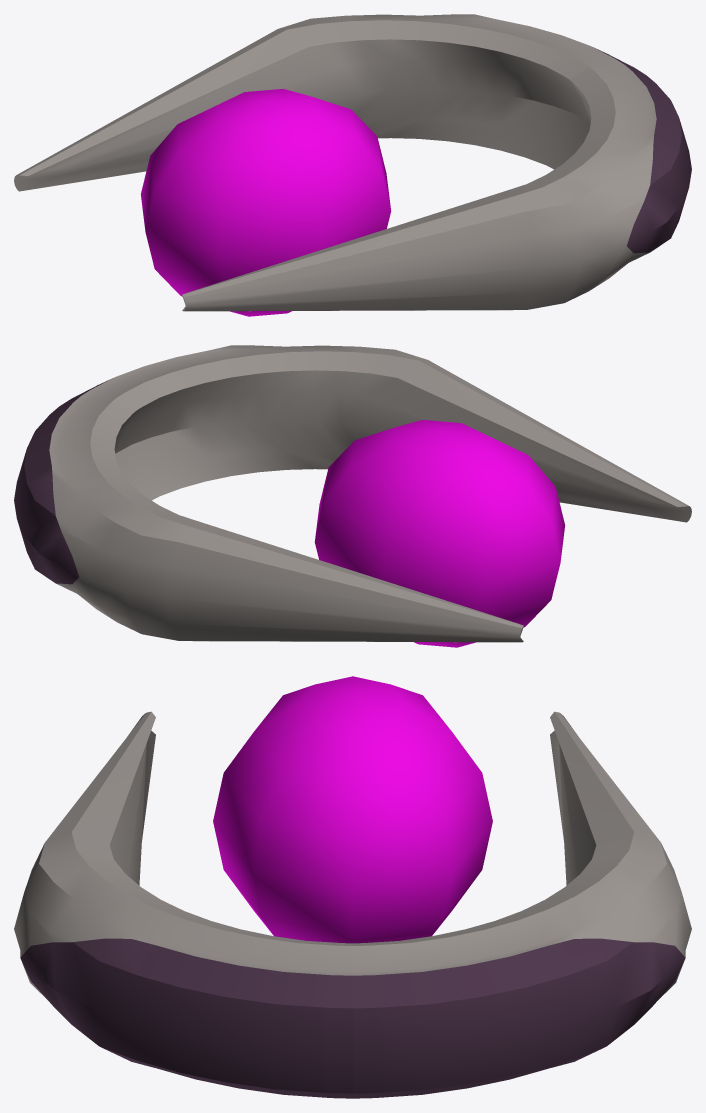
Rendered from Spaceship_Pluto.fbx.
The picture shows the model from 3 angles, top to bottom: view 1: azimuth 30°, elevation 25°; view 2: azimuth 150°, elevation 25°; view 3: azimuth 270°, elevation 25°; orthographic projection. The views are drawn at different scales.
Parts seen in each view (by area): view 1: Torus, Sphere_Sphere.001; view 2: Torus, Sphere_Sphere.001; view 3: Torus, Sphere_Sphere.001.
Boxes of the visible parts, x1=… form: Torus: x1=14, y1=14, x2=691, y2=311; Sphere_Sphere.001: x1=140, y1=89, x2=391, y2=316; Torus: x1=14, y1=345, x2=691, y2=642; Sphere_Sphere.001: x1=314, y1=420, x2=565, y2=647; Torus: x1=14, y1=711, x2=691, y2=1098; Sphere_Sphere.001: x1=213, y1=676, x2=492, y2=943.
Size of the model in its own units: 255 by 90.03 by 218.
